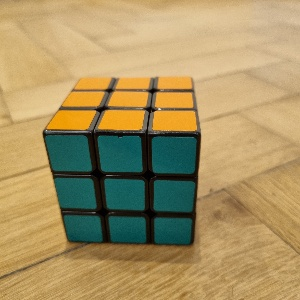cube: (42, 77, 203, 248)
